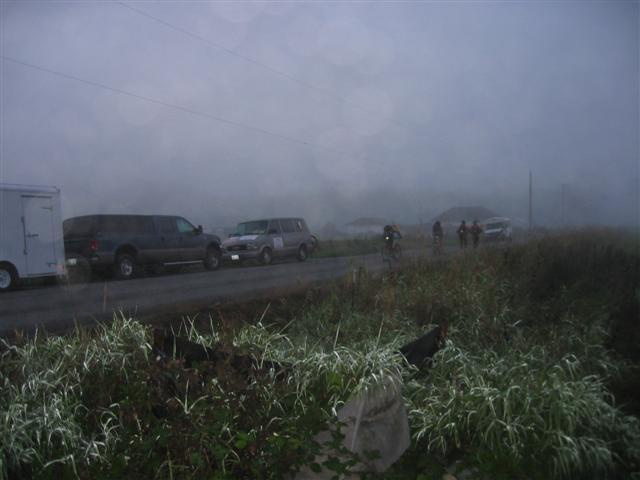non-vehicle: (380, 236, 402, 260), (433, 233, 442, 255)
